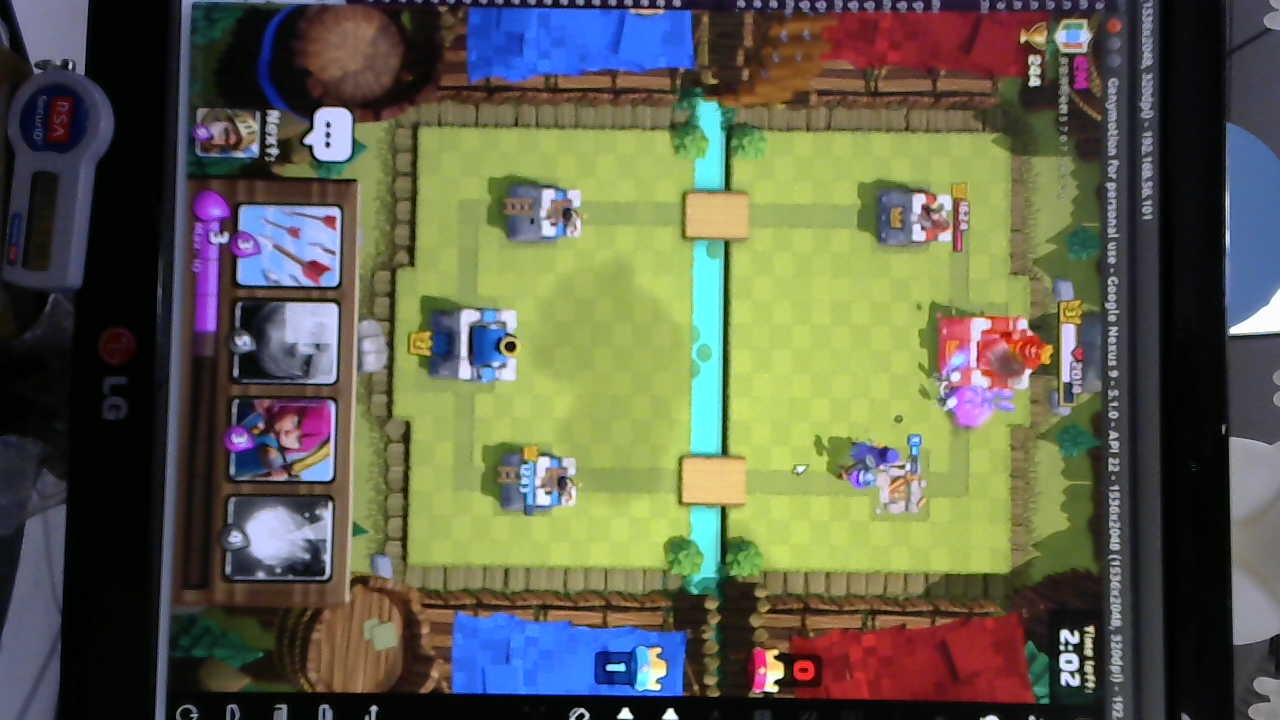arena: (496, 449, 583, 514), (503, 187, 583, 244)
darena: (870, 459, 930, 519)
earena: (874, 185, 956, 250)
eking: (935, 308, 1045, 395)
king: (431, 306, 524, 384)
musketeer: (837, 452, 881, 490)
witch: (845, 437, 912, 473)
